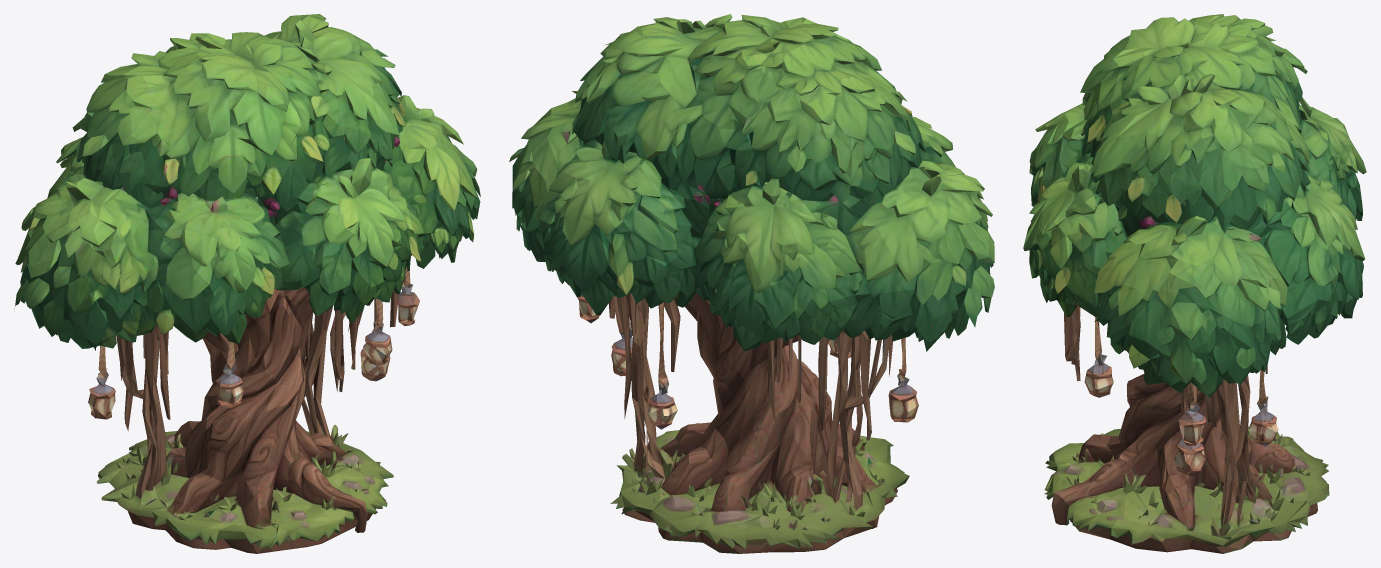
File: banyan_tree.fbx
3 views of the same model, side by side, from view 1: azimuth 30°, elevation 25°; view 2: azimuth 150°, elevation 25°; view 3: azimuth 270°, elevation 25° (orthographic). The views are drawn at different scales.
Parts seen in each view (by area): view 1: banyan_tree; view 2: banyan_tree; view 3: banyan_tree.
Boxes of the visible parts, x1=… form: banyan_tree: x1=14, y1=14, x2=480, y2=553; banyan_tree: x1=509, y1=14, x2=994, y2=553; banyan_tree: x1=1023, y1=14, x2=1366, y2=553.
Bounding box in the file's own units: 10.37 × 10 × 6.77.
